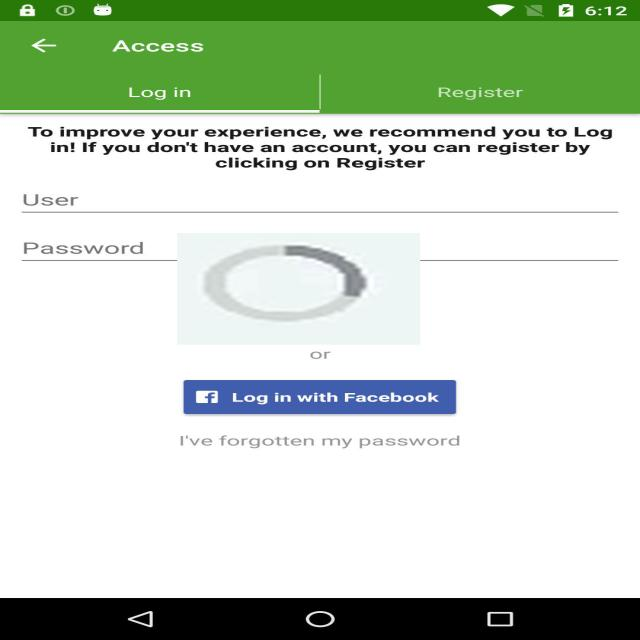misdirection: (177, 233, 420, 345)
